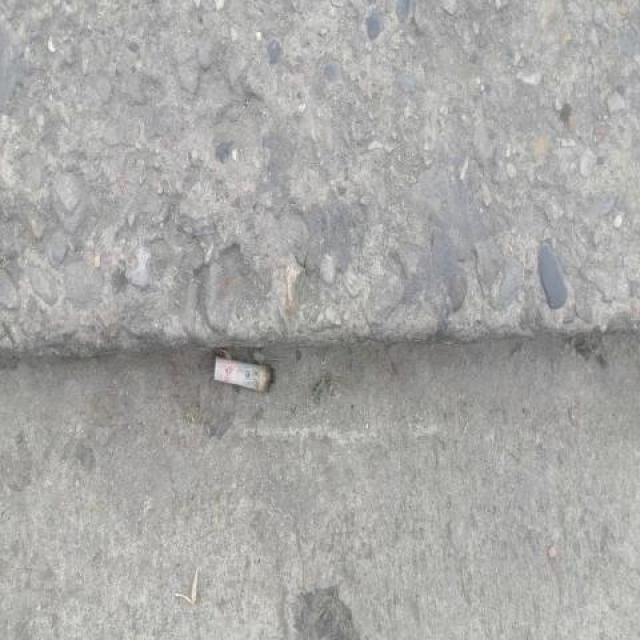non-organic waste: (207, 351, 281, 398)
